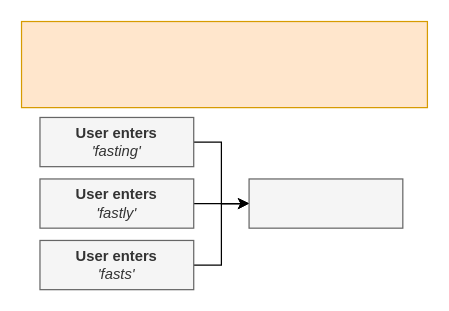
The diagram is 449 pixels wide and 311 high, and some of its shapes have lost their labels. Here are the shapes that lost their labels. From the top down, the centre of each, then its label:
point (223, 64): Stemming is used to reduce words down to a base form snowballstem.org/demo.html
point (325, 203): Reduced to 'fast'
